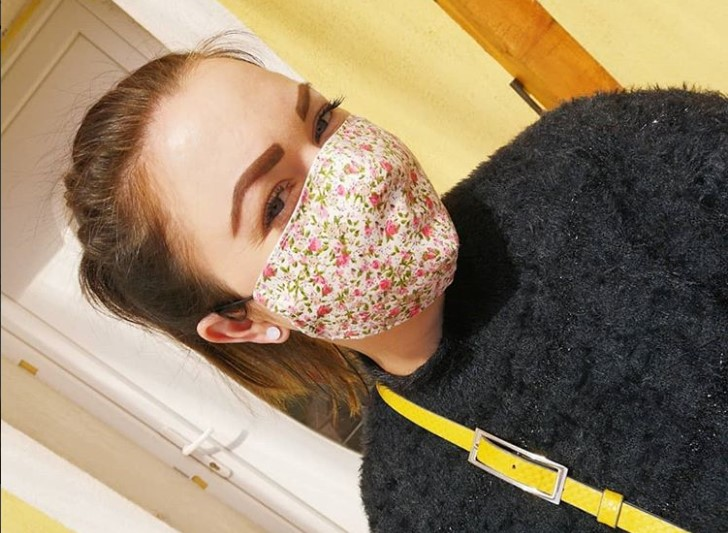face_with_mask: (79, 56, 465, 355)
